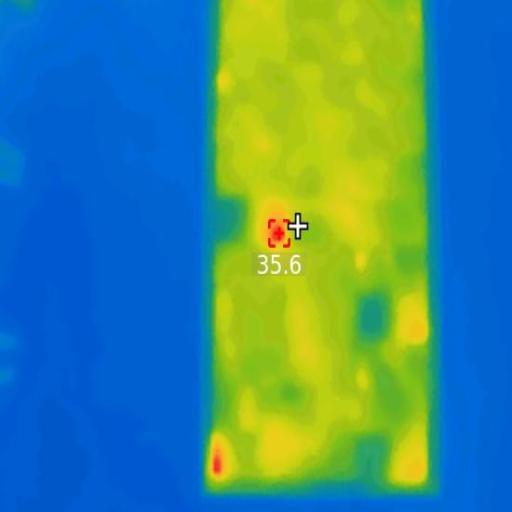hotspot: (210, 451, 225, 475)
